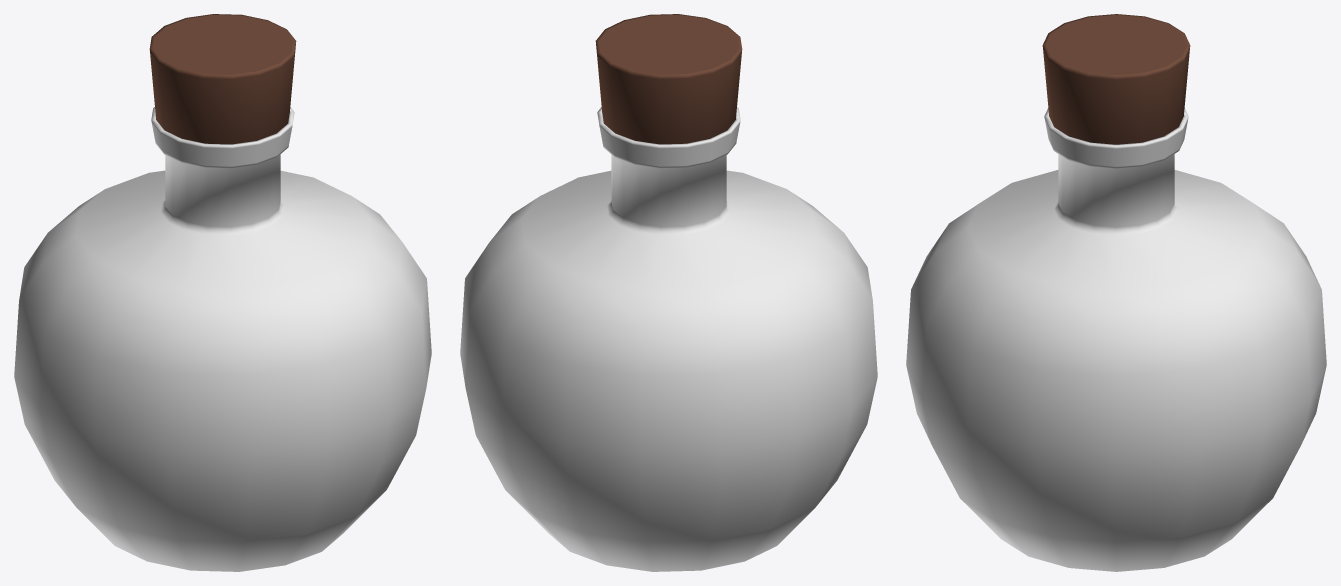
The model's file is Potion_01.fbx.
3 renders of one model, left to right at view 1: azimuth 30°, elevation 25°; view 2: azimuth 150°, elevation 25°; view 3: azimuth 270°, elevation 25°, orthographic.
Parts seen in each view (by area): view 1: Bottle, Cap; view 2: Bottle, Cap; view 3: Bottle, Cap.
Boxes of the visible parts, bbox=[...] form: Bottle: bbox=[14, 107, 431, 571]; Cap: bbox=[149, 14, 296, 144]; Bottle: bbox=[460, 107, 877, 571]; Cap: bbox=[595, 14, 742, 144]; Bottle: bbox=[906, 108, 1326, 571]; Cap: bbox=[1042, 14, 1190, 144].
Size of the model in its own units: 1.95 by 2.42 by 1.95.
